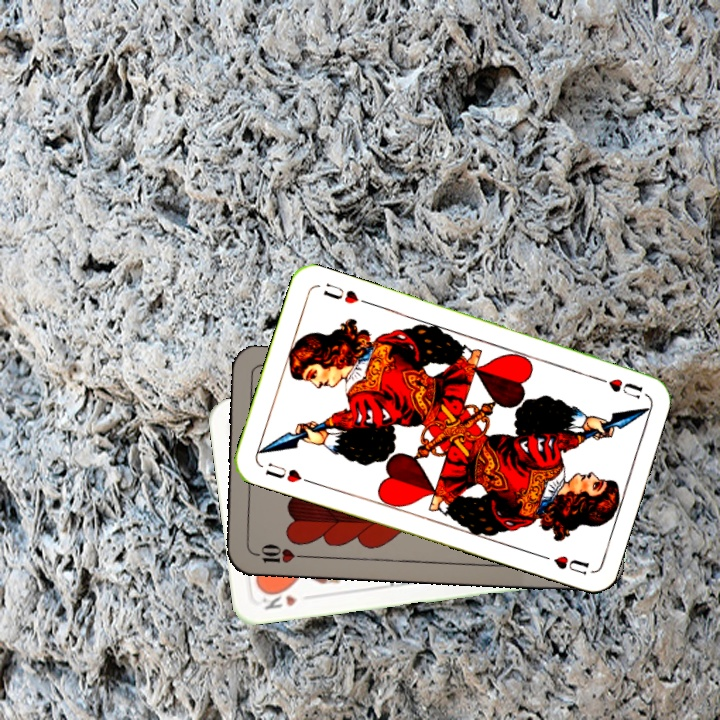H10: (249, 540, 308, 566)
HK: (255, 585, 300, 613)
HU: (590, 372, 645, 402), (261, 458, 315, 486)
